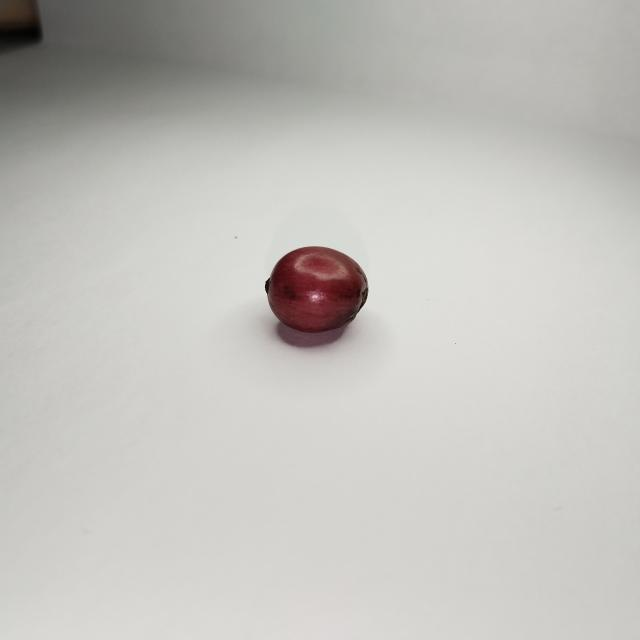Sano: (265, 246, 368, 334)
